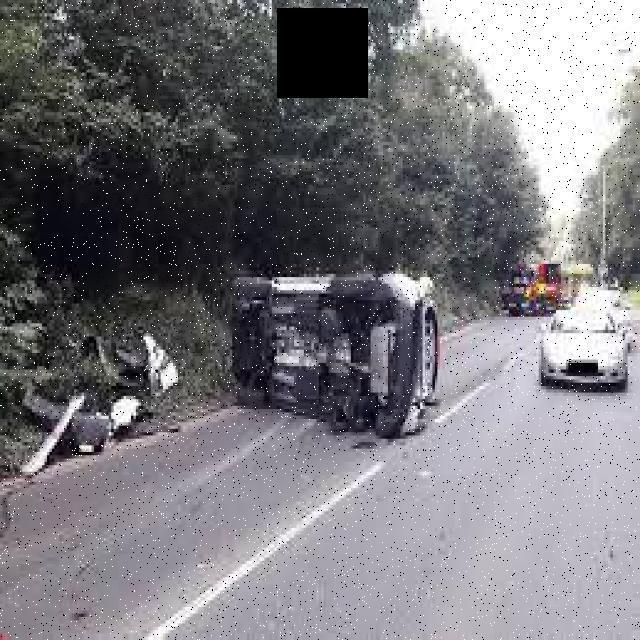accident: (225, 261, 443, 442)
